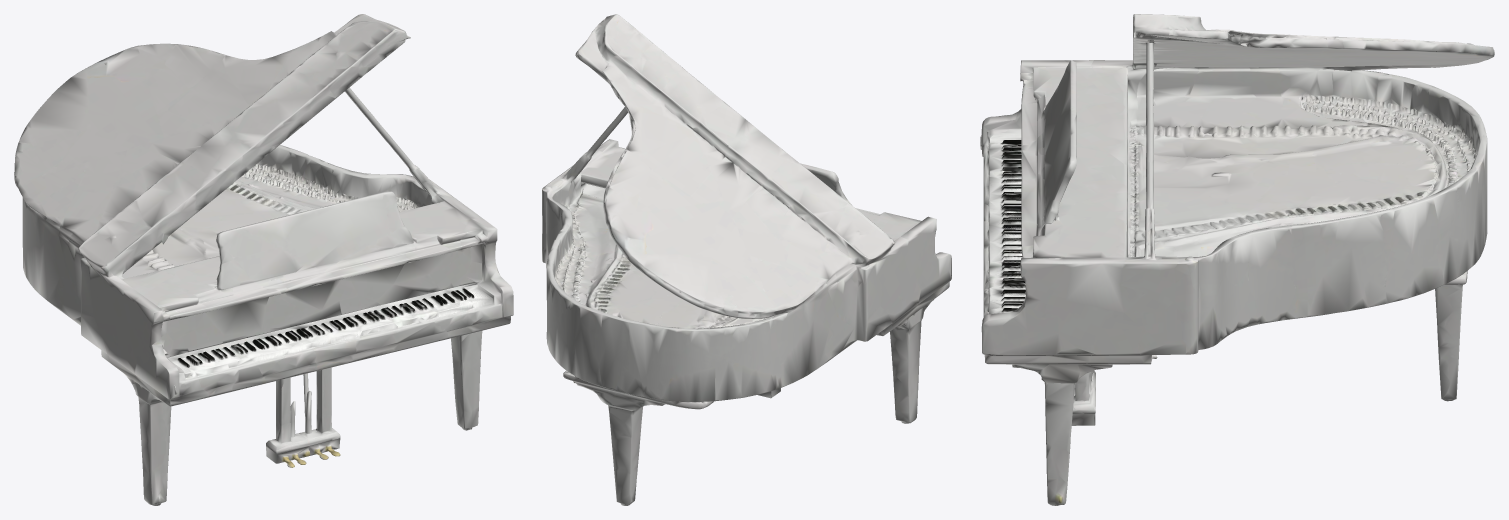
The picture shows the model from 3 angles, left to right: view 1: azimuth 30°, elevation 25°; view 2: azimuth 150°, elevation 25°; view 3: azimuth 270°, elevation 25°; orthographic projection. The views are drawn at different scales.
Bounding box in the file's own units: 1.78 × 1.89 × 1.89.
Materials: 1 (1 with a texture image).
